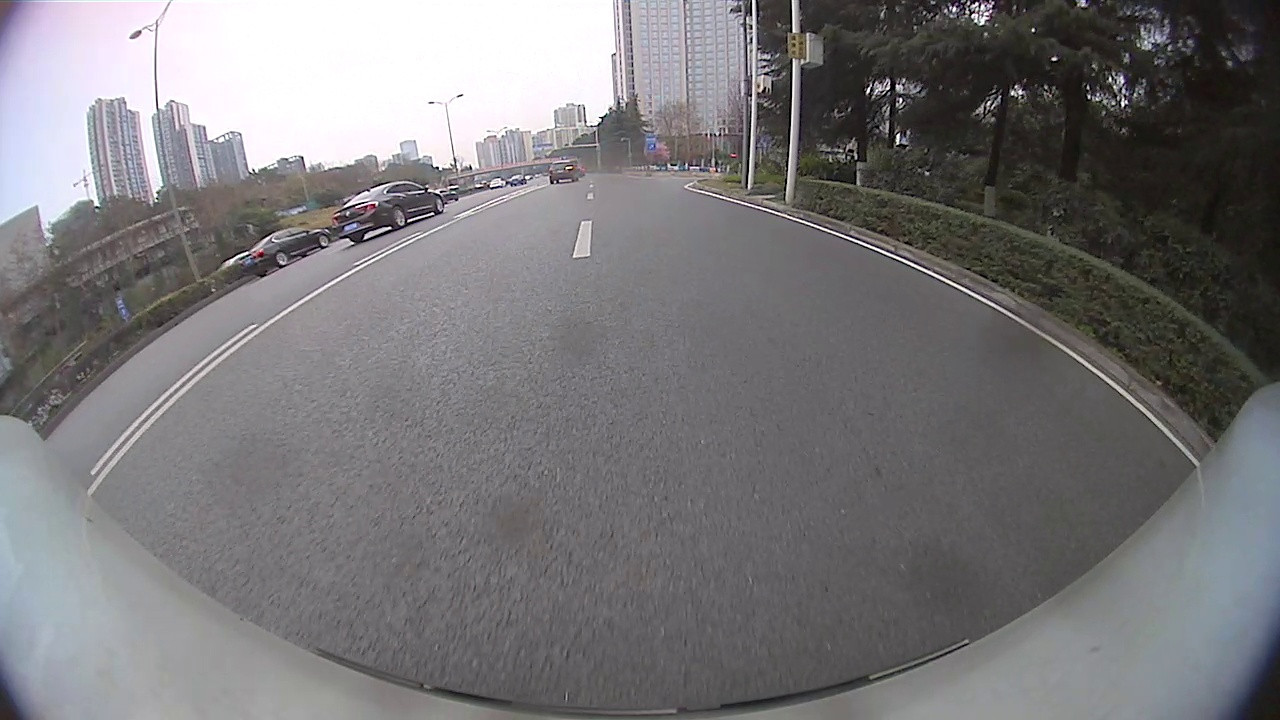car: (331, 177, 445, 242), (238, 224, 332, 279), (547, 158, 578, 184), (436, 188, 460, 202)
front: (318, 234, 331, 249), (434, 197, 444, 215)
rear: (392, 207, 407, 230), (276, 252, 289, 269)
